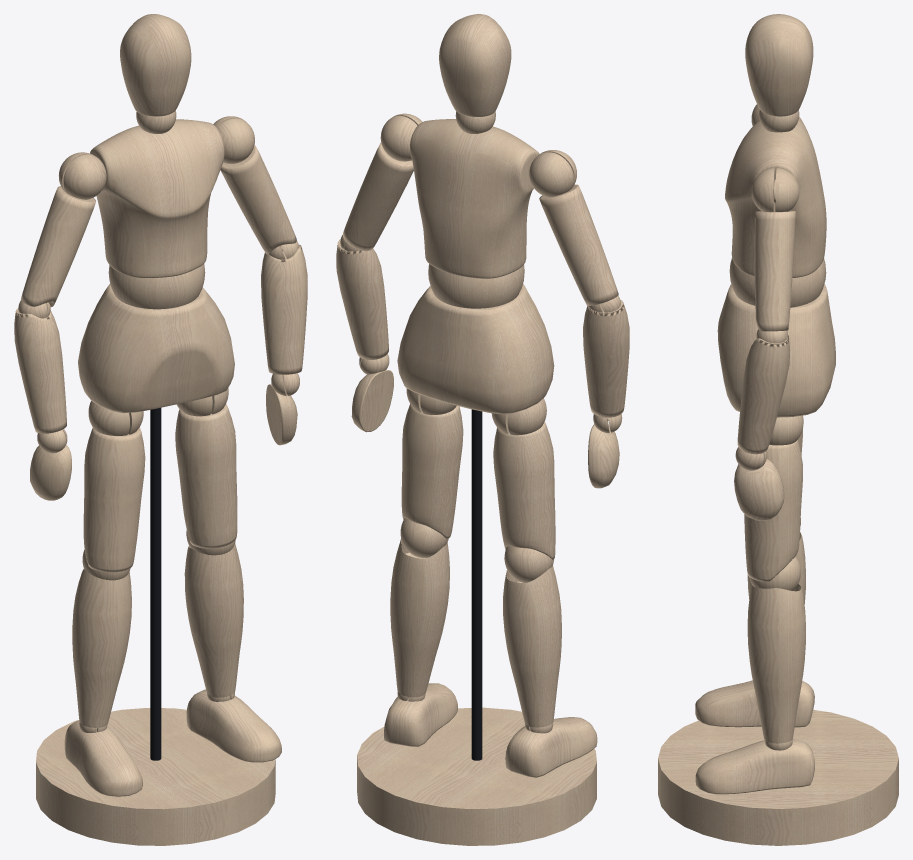
File: PoseMan.FBX
3 views of the same model, side by side, from view 1: azimuth 30°, elevation 25°; view 2: azimuth 150°, elevation 25°; view 3: azimuth 270°, elevation 25° (orthographic).
Parts seen in each view (by area): view 1: Body, Base, thighRight, thighLeft, shinRight, shinLeft, Head, UpArmRight, LowArmLeft, UpArmLeft, LowArmRight, footLeft (+3 smaller); view 2: Body, Base, shinRight, shinLeft, thighRight, thighLeft, Head, UpArmRight, UpArmLeft, LowArmRight, LowArmLeft, footRight (+3 smaller); view 3: Base, Body, shinLeft, UpArmLeft, Head, thighLeft, footLeft, LowArmLeft, footRight, HandLeft.
Part boxes in pixels (x1,y1,x2,y2): Body: (78,119,234,413); Base: (36,408,275,845); thighRight: (83,401,145,572); thighLeft: (175,388,237,548); shinRight: (72,549,131,727); shinLeft: (184,530,243,697); Head: (120,14,191,133); UpArmRight: (21,152,106,307); LowArmLeft: (261,240,307,374); UpArmLeft: (213,116,296,254); LowArmRight: (14,300,66,433); footLeft: (186,689,281,762); Body: (397,119,554,414); Base: (357,409,596,845); shinRight: (503,546,561,727); shinLeft: (390,518,449,697); thighRight: (491,398,555,559); thighLeft: (401,388,463,538); Head: (439,14,511,133); UpArmRight: (529,150,618,305); UpArmLeft: (342,113,422,250); LowArmRight: (583,296,629,417); LowArmLeft: (336,235,388,359); footRight: (505,717,597,777); Base: (658,710,898,845); Body: (717,117,835,417); shinLeft: (747,556,805,743); UpArmLeft: (751,168,799,331); Head: (745,14,813,132); thighLeft: (744,415,803,582); footLeft: (695,739,814,794); LowArmLeft: (737,329,790,454); footRight: (695,680,814,727); HandLeft: (734,447,784,520).
Size of the model in its own units: 0.6899 by 1.78 by 0.499.
2 materials, 1 textured.
